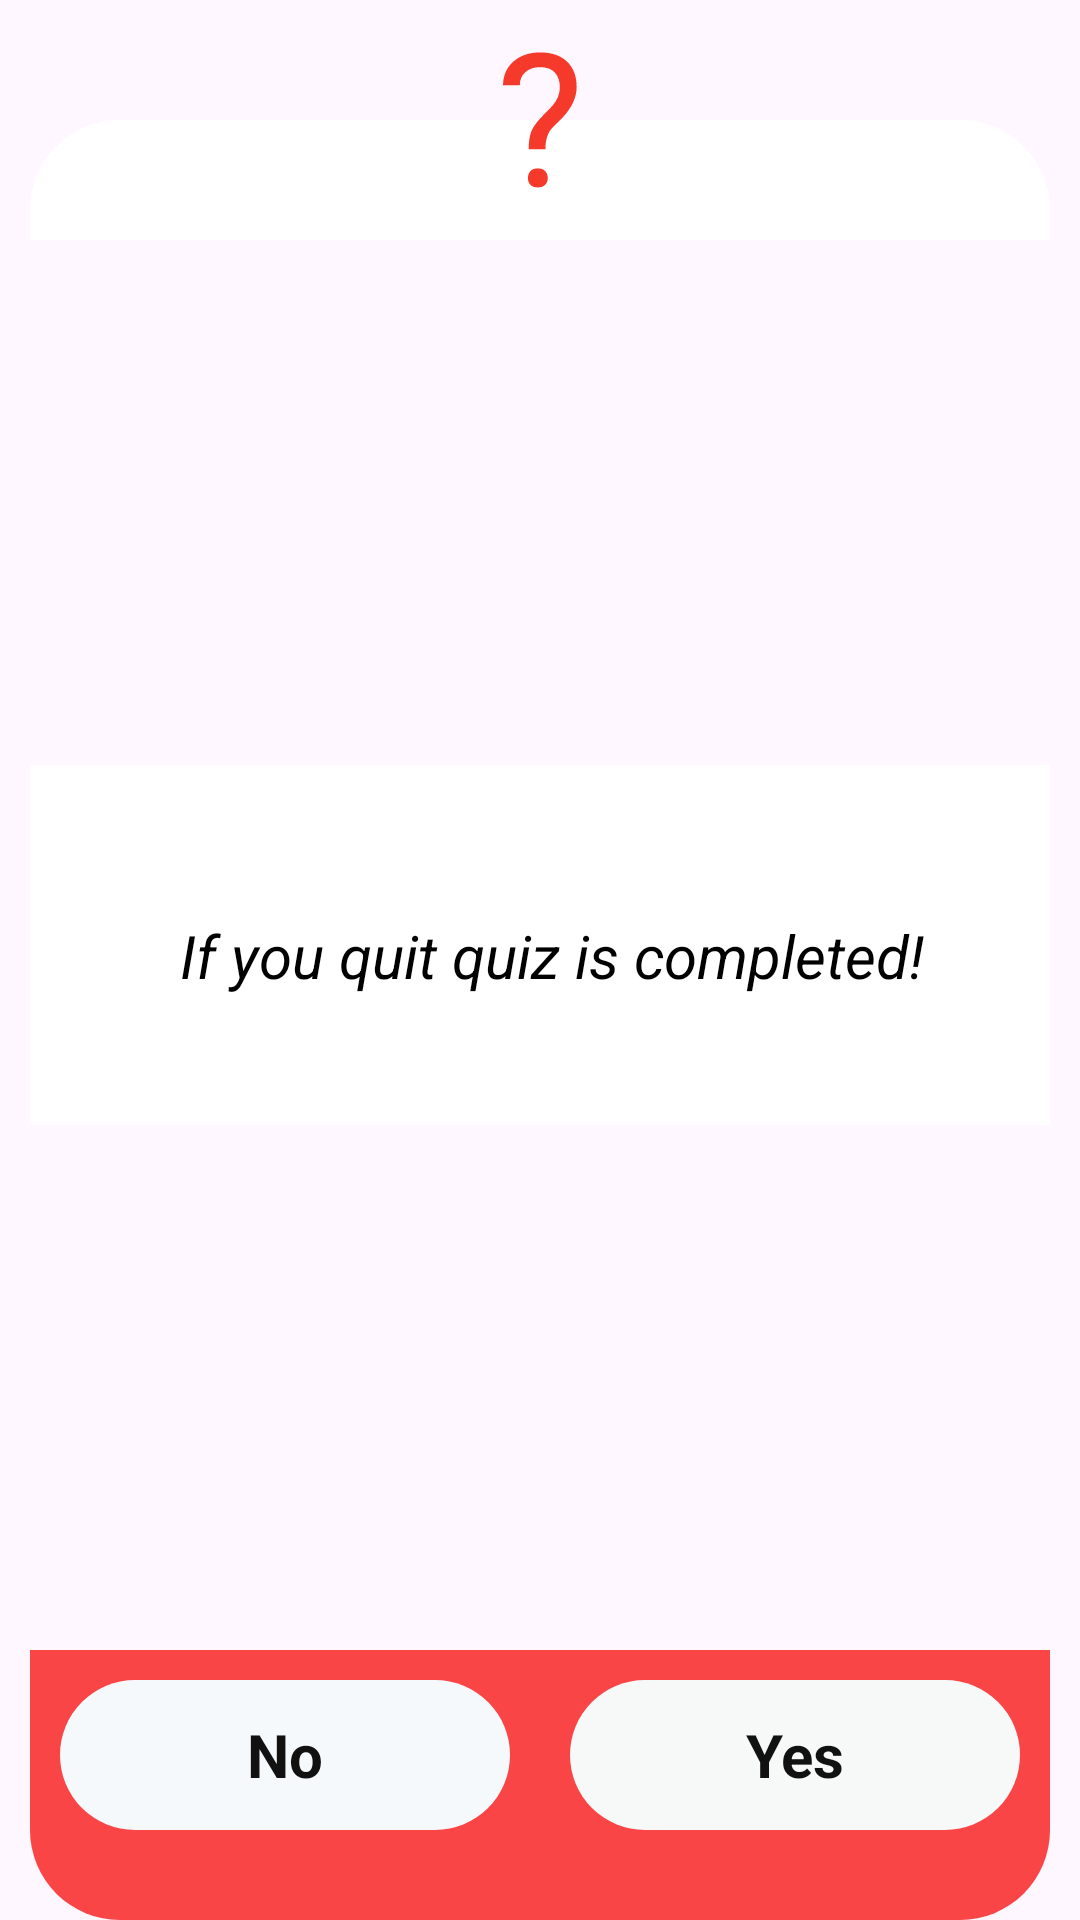

Icons on this 1080x1920 Android screen, each with the point to tap as (x,y):
question: (540,120)
